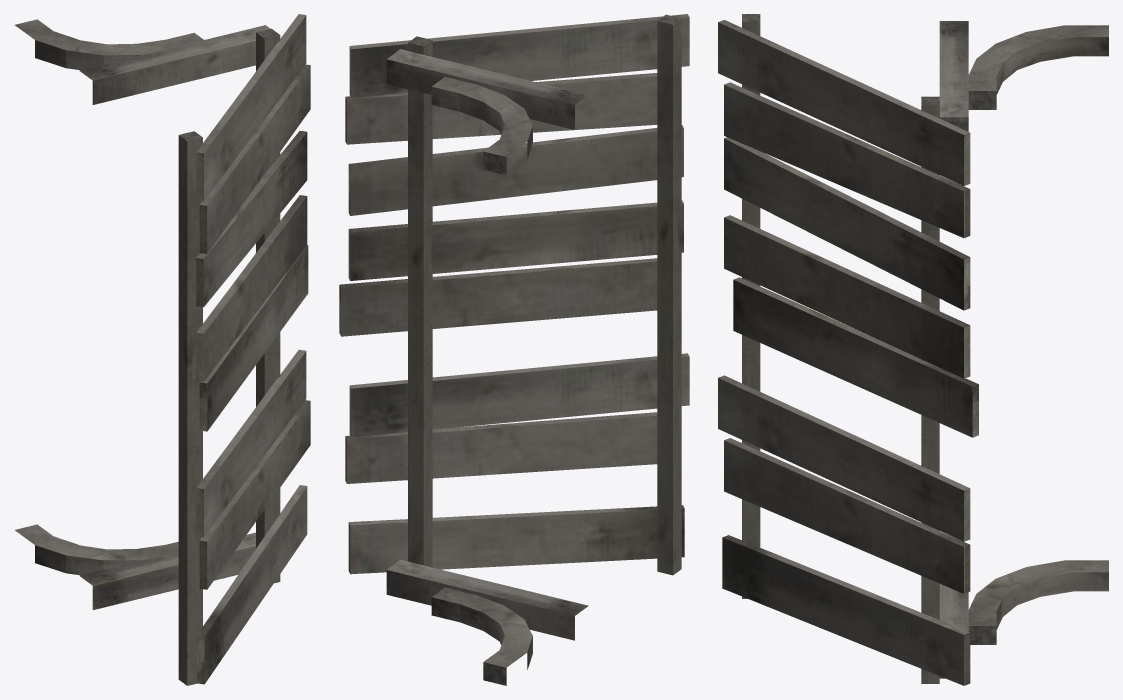
Rendered from awning_desert_wood_large3.glb.
The picture shows the model from 3 angles, left to right: view 1: azimuth 30°, elevation 25°; view 2: azimuth 150°, elevation 25°; view 3: azimuth 270°, elevation 25°; orthographic projection. The views are drawn at different scales.
Size of the model in its own units: 30.83 by 69.66 by 42.59.
1 material, 1 textured.
